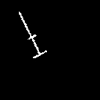double_crochet: (19, 12, 46, 57)
